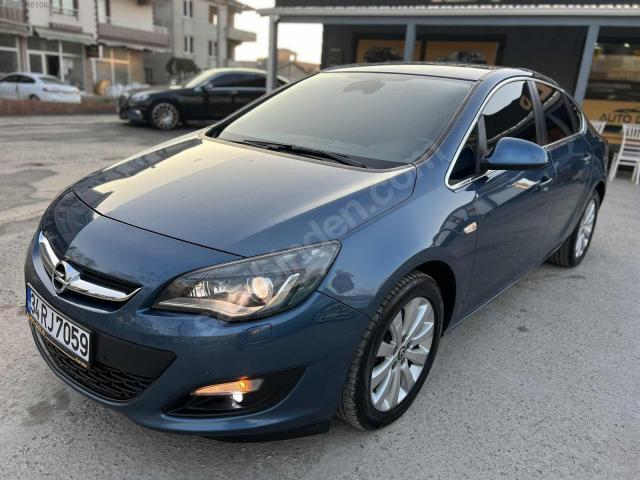plaka: (28, 287, 91, 368)
